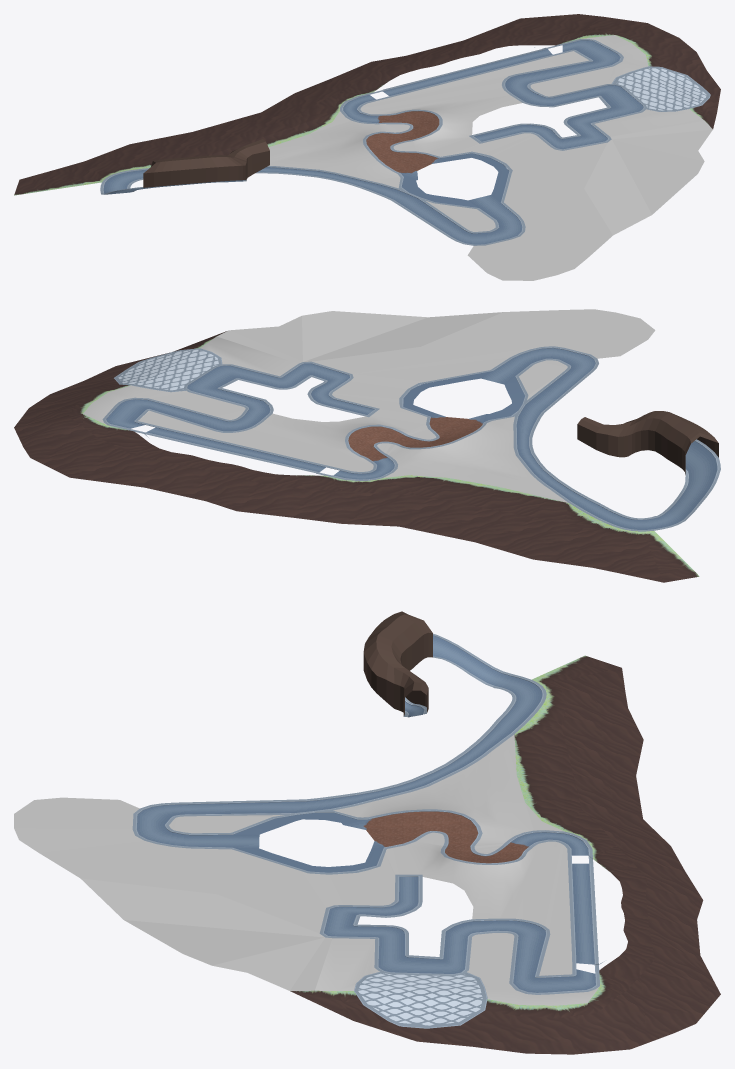
File: terrain_v01.fbx
3 renders of one model, top to bottom at view 1: azimuth 30°, elevation 25°; view 2: azimuth 150°, elevation 25°; view 3: azimuth 270°, elevation 25°, orthographic. The views are drawn at different scales.
Parts seen in each view (by area): view 1: Trottoirs.003, PisteFinale, Trottoirs.008, Trottoirs.005, Trottoirs.009, Trottoirs.007, Trottoirs.013, Trottoirs.014; view 2: Trottoirs.003, Trottoirs.008, PisteFinale, Trottoirs.005, Trottoirs.009, Trottoirs.007, Trottoirs.013, Trottoirs.014; view 3: Trottoirs.003, Trottoirs.008, PisteFinale, Trottoirs.005, Trottoirs.009, Trottoirs.013, Trottoirs.007, Trottoirs.014.
Boxes of the visible parts, x1,y1,x2,y2 form: Trottoirs.003: (268, 35, 712, 280); PisteFinale: (103, 40, 643, 244); Trottoirs.008: (20, 14, 720, 179); Trottoirs.005: (14, 29, 712, 195); Trottoirs.009: (100, 39, 646, 245); Trottoirs.007: (143, 139, 269, 187); Trottoirs.013: (616, 68, 706, 110); Trottoirs.014: (611, 66, 710, 111); Trottoirs.003: (83, 309, 655, 502); Trottoirs.008: (14, 331, 663, 582); PisteFinale: (106, 348, 717, 529); Trottoirs.005: (68, 333, 699, 582); Trottoirs.009: (102, 346, 720, 531); Trottoirs.007: (577, 411, 718, 474); Trottoirs.013: (118, 349, 218, 390); Trottoirs.014: (114, 348, 222, 392); Trottoirs.003: (14, 735, 599, 1005); Trottoirs.008: (290, 668, 720, 1054); PisteFinale: (137, 635, 595, 992); Trottoirs.005: (290, 655, 654, 1017); Trottoirs.009: (132, 633, 604, 994); Trottoirs.013: (358, 973, 482, 1025); Trottoirs.007: (363, 611, 432, 716); Trottoirs.014: (354, 971, 487, 1028).
Size of the model in its own units: 56413 by 5858 by 42236.
